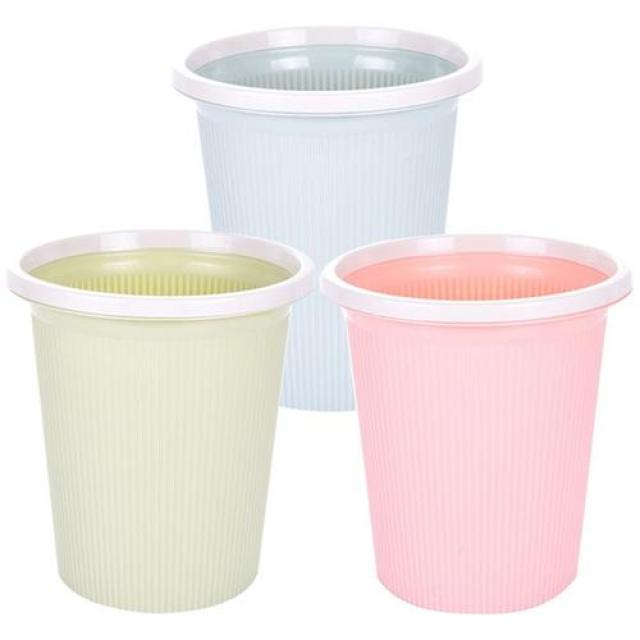dustbin: (1, 219, 320, 618), (168, 19, 488, 416), (321, 228, 638, 620)
